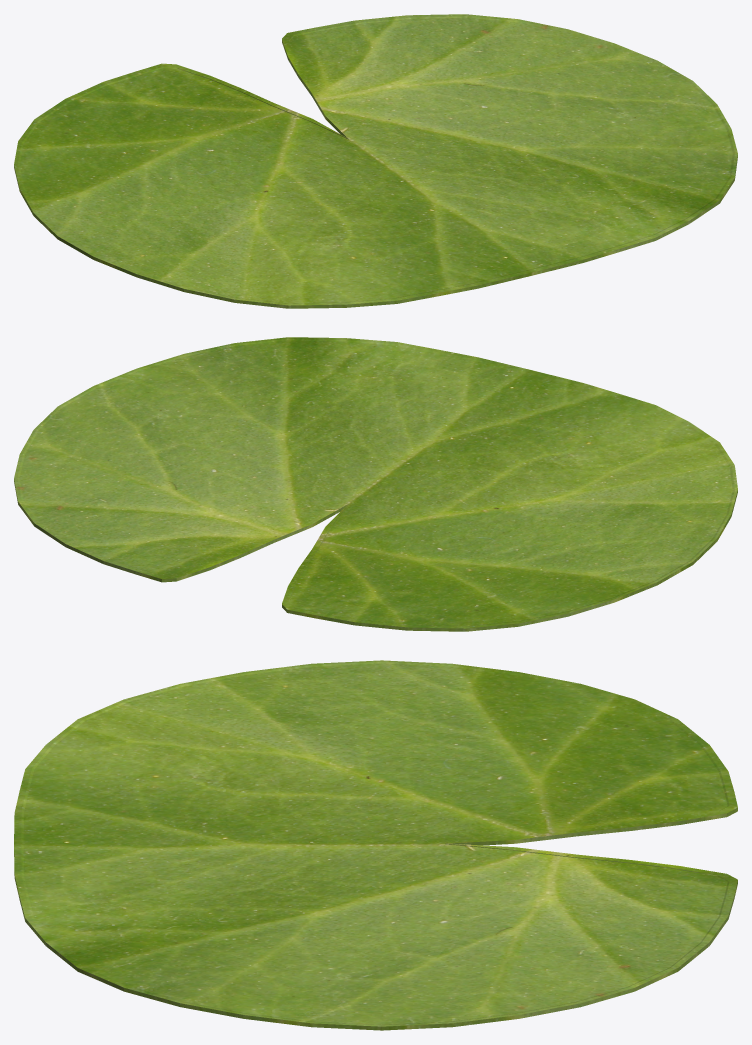
The model's file is pad.fbx.
The picture shows the model from 3 angles, top to bottom: view 1: azimuth 30°, elevation 25°; view 2: azimuth 150°, elevation 25°; view 3: azimuth 270°, elevation 25°; orthographic projection. The views are drawn at different scales.
Parts seen in each view (by area): view 1: Circle; view 2: Circle; view 3: Circle.
Part boxes in pixels (bbox=[...]): Circle: bbox=[14, 14, 737, 308]; Circle: bbox=[14, 337, 737, 631]; Circle: bbox=[14, 660, 737, 1030].
Bounding box in the file's own units: 240 × 1.18 × 200.
